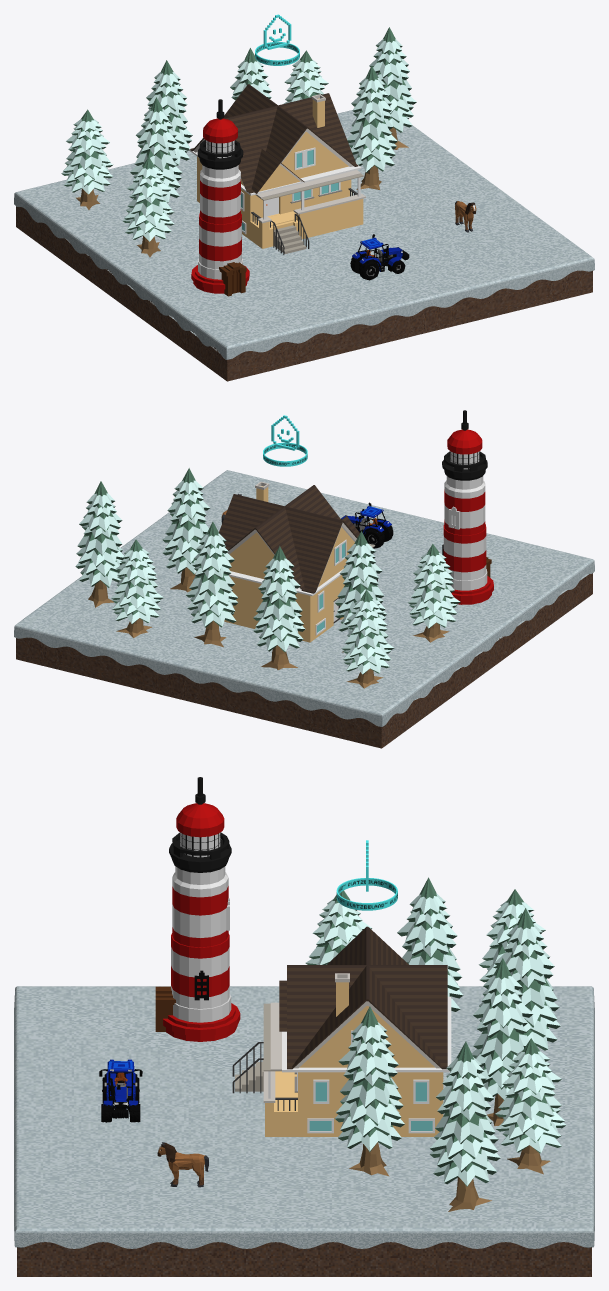
3 views of the same model, one above another, from view 1: azimuth 30°, elevation 25°; view 2: azimuth 150°, elevation 25°; view 3: azimuth 270°, elevation 25° (orthographic). The views are drawn at different scales.
Visible parts, largest first — view 1: Cube.003, Cube.235, OBJRANDOM_LIGHTHOUSE, VEHICLES_TRACTOR, TYPE_PREMIUM, ANIMAL_CABALLO; view 2: Cube.003, Cube.235, OBJRANDOM_LIGHTHOUSE, VEHICLES_TRACTOR, TYPE_PREMIUM; view 3: Cube.003, Cube.235, OBJRANDOM_LIGHTHOUSE, VEHICLES_TRACTOR, TYPE_PREMIUM, ANIMAL_CABALLO.
Part boxes in pixels (<box>): Cube.003: <box>14,27,594,381</box>; Cube.235: <box>189,84,365,254</box>; OBJRANDOM_LIGHTHOUSE: <box>191,99,249,296</box>; VEHICLES_TRACTOR: <box>350,234,409,280</box>; TYPE_PREMIUM: <box>255,14,299,65</box>; ANIMAL_CABALLO: <box>455,201,476,232</box>; Cube.003: <box>14,468,594,748</box>; Cube.235: <box>219,481,377,642</box>; OBJRANDOM_LIGHTHOUSE: <box>442,410,493,604</box>; VEHICLES_TRACTOR: <box>341,502,393,548</box>; TYPE_PREMIUM: <box>263,415,307,466</box>; Cube.003: <box>14,877,594,1276</box>; Cube.235: <box>232,926,451,1136</box>; OBJRANDOM_LIGHTHOUSE: <box>155,777,240,1041</box>; VEHICLES_TRACTOR: <box>99,1059,142,1122</box>; TYPE_PREMIUM: <box>336,840,397,910</box>; ANIMAL_CABALLO: <box>157,1142,208,1187</box>.
Bounding box in the file's own units: 4040 × 2471 × 4040.
38 materials, 4 textured.
